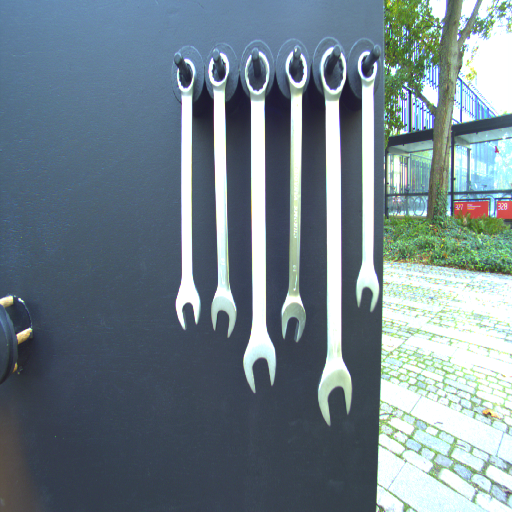bottom: (314, 363, 356, 429), (241, 334, 278, 397), (173, 279, 202, 334), (278, 292, 307, 346), (209, 287, 237, 341), (355, 268, 382, 313)
top: (319, 43, 348, 103), (244, 49, 273, 103), (283, 45, 309, 97), (357, 47, 381, 91), (173, 55, 199, 95), (207, 49, 230, 92)
